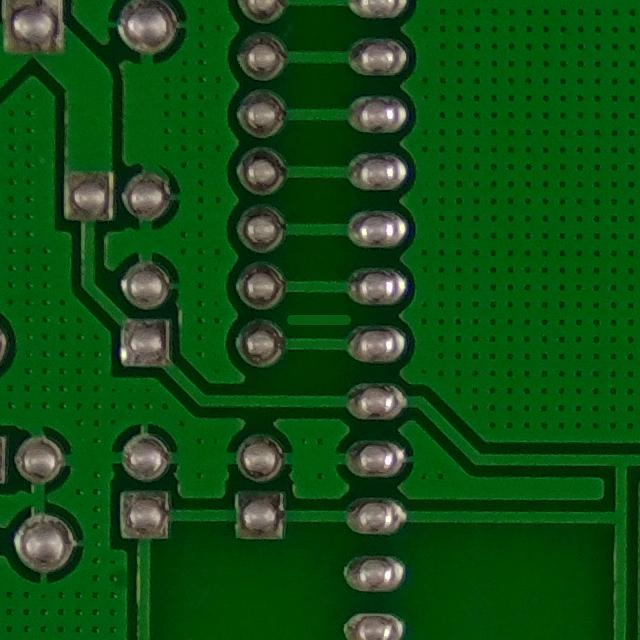spurious_copper: (280, 300, 360, 340)
